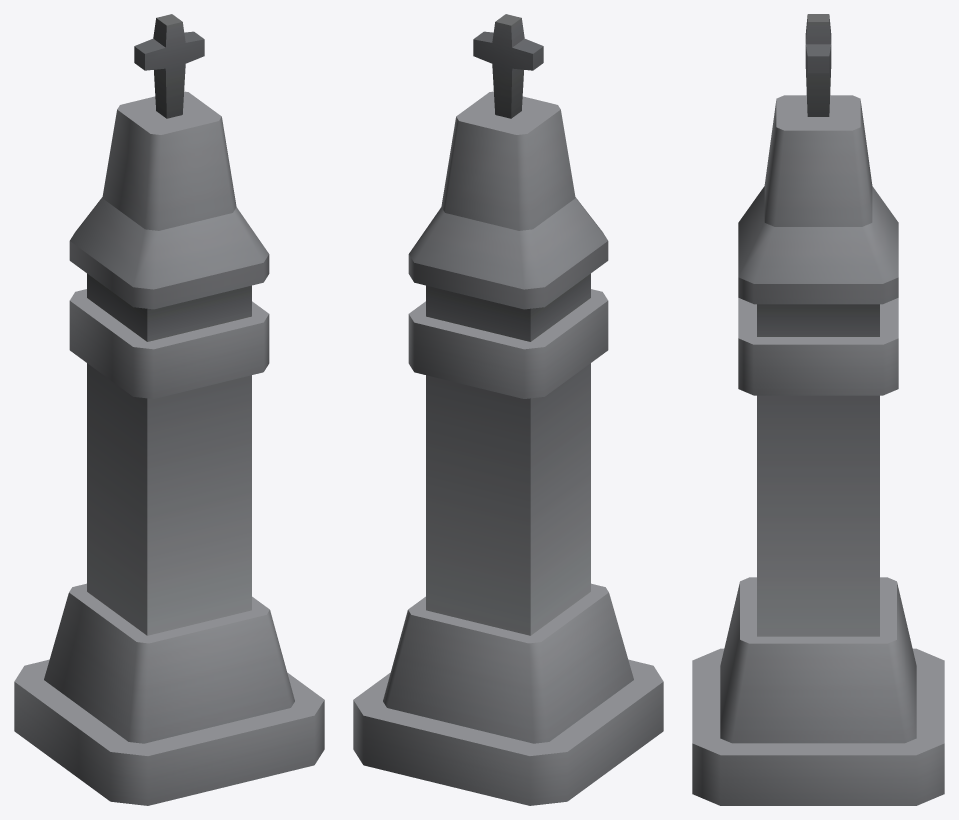
Rendered from cross-column.glb.
The picture shows the model from 3 angles, left to right: view 1: azimuth 30°, elevation 25°; view 2: azimuth 150°, elevation 25°; view 3: azimuth 270°, elevation 25°; orthographic projection.
Visible parts, largest first — view 1: cross-column; view 2: cross-column; view 3: cross-column.
Boxes of the visible parts, left/top/right/bottom form: cross-column: left=14, top=14, right=324, bottom=805; cross-column: left=353, top=14, right=663, bottom=805; cross-column: left=692, top=14, right=944, bottom=805.
Bounding box in the file's own units: 0.675 × 2.17 × 0.675.
1 material, 1 textured.
